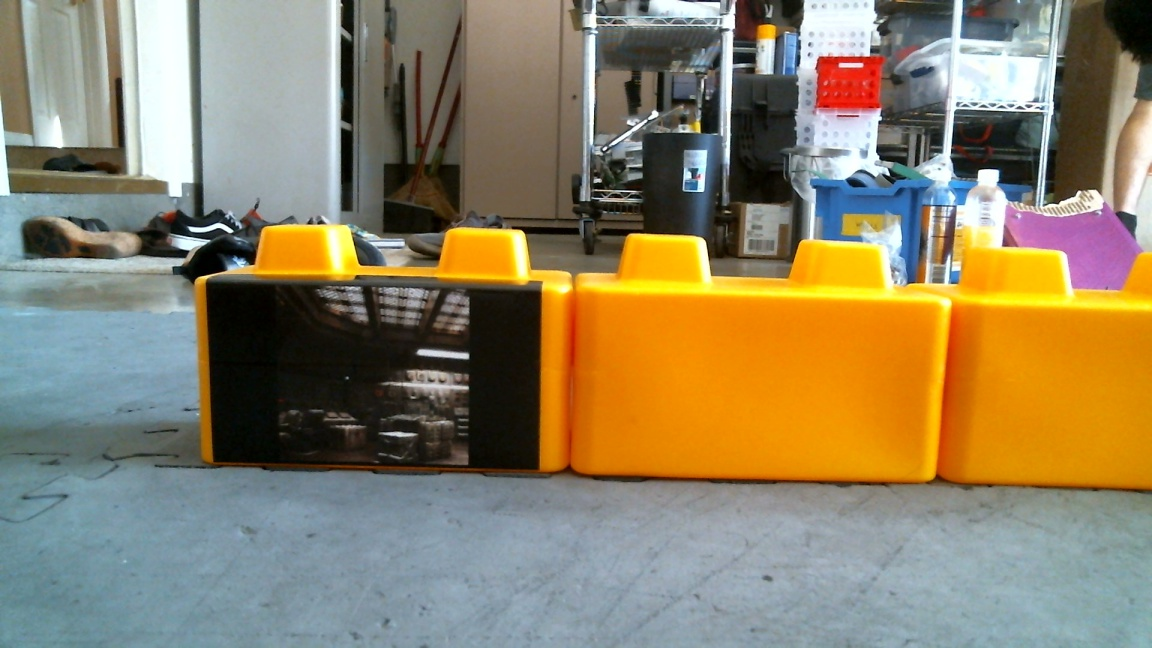left: (186, 229, 1152, 479)
